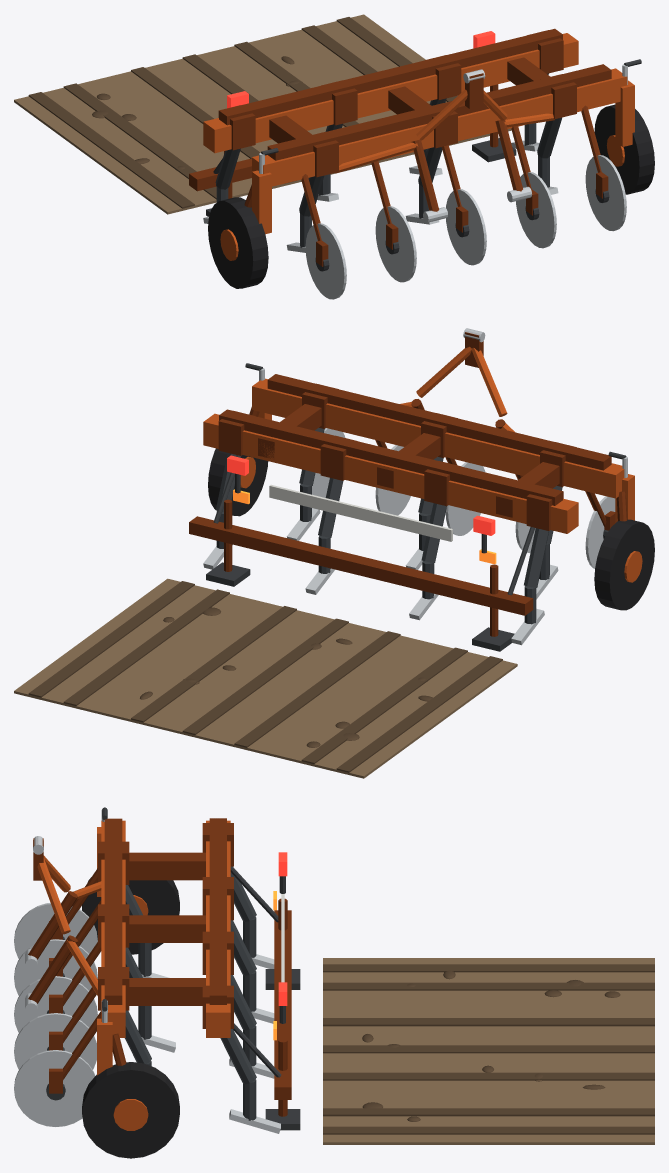
File: chisel_plow.glb
3 views of the same model, one above another, from view 1: azimuth 30°, elevation 25°; view 2: azimuth 150°, elevation 25°; view 3: azimuth 270°, elevation 25° (orthographic). The views are drawn at different scales.
Parts seen in each view (by area): view 1: ChiselBody, ChiselProps, CoulterB, CoulterE, CoulterA, CoulterC, CoulterD; view 2: ChiselBody, ChiselProps, CoulterA, CoulterC, CoulterD; view 3: ChiselProps, ChiselBody, CoulterE, CoulterD, CoulterC, CoulterA, CoulterB.
Boxes of the visible parts, <box> form: ChiselBody: <box>189,28,654,288</box>; ChiselProps: <box>14,14,511,214</box>; CoulterB: <box>375,206,416,282</box>; CoulterE: <box>585,155,626,231</box>; CoulterA: <box>305,223,346,299</box>; CoulterC: <box>446,189,486,265</box>; CoulterD: <box>516,172,556,248</box>; ChiselBody: <box>189,328,654,651</box>; ChiselProps: <box>14,578,517,778</box>; CoulterA: <box>585,496,615,568</box>; CoulterC: <box>445,462,485,535</box>; CoulterD: <box>375,445,410,515</box>; ChiselProps: <box>323,958,654,1144</box>; ChiselBody: <box>25,807,300,1158</box>; CoulterE: <box>14,1050,95,1126</box>; CoulterD: <box>14,1013,96,1069</box>; CoulterC: <box>14,976,97,1032</box>; CoulterA: <box>14,902,97,958</box>; CoulterB: <box>14,939,97,995</box>.
Bounding box in the file's own units: 2.9 × 1.34 × 3.67.
